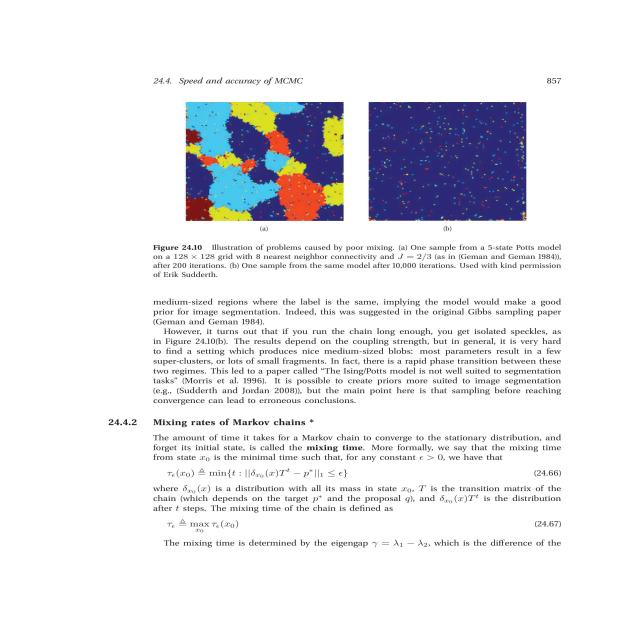diagram: (123, 91, 633, 282)
